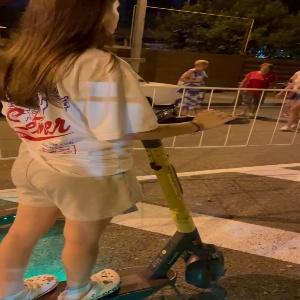human on a scooter: (1, 1, 251, 300)
